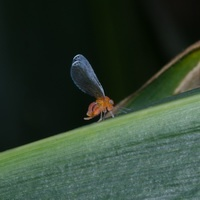insect: (70, 54, 113, 120)
